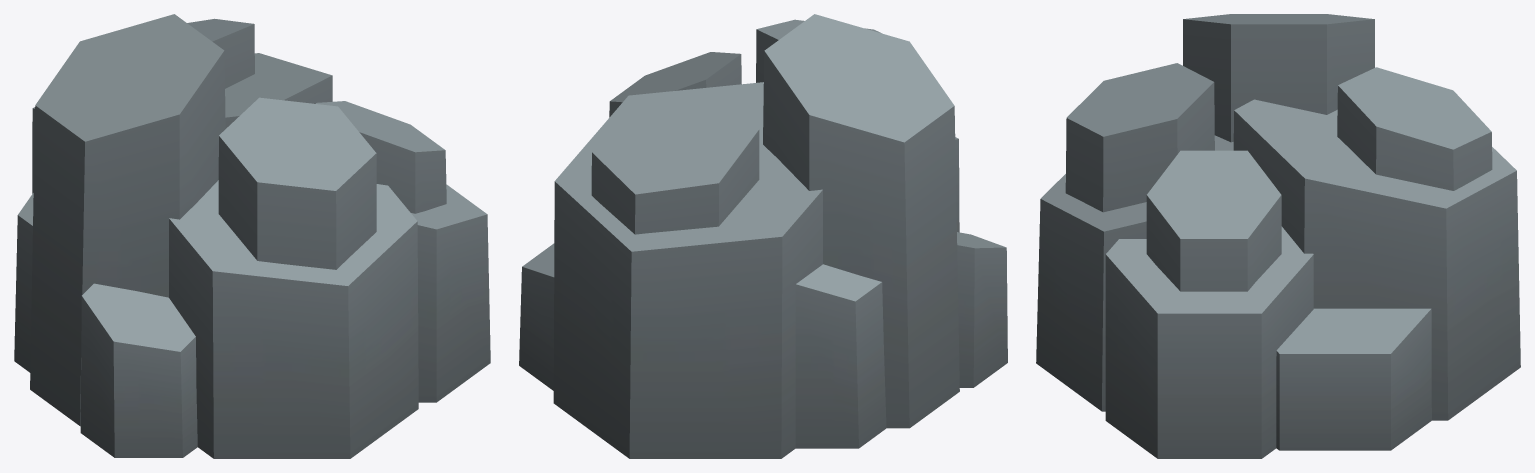
File: kaykit-medieval-hexagon-pack-mountain-c.glb
The picture shows the model from 3 angles, left to right: view 1: azimuth 30°, elevation 25°; view 2: azimuth 150°, elevation 25°; view 3: azimuth 270°, elevation 25°; orthographic projection. The views are drawn at different scales.
Visible parts, largest first — view 1: mountain_C; view 2: mountain_C; view 3: mountain_C.
Part boxes in pixels (x1,y1,x2,y2): mountain_C: (14,14,490,458); mountain_C: (519,14,1007,458); mountain_C: (1036,14,1520,458).
Bounding box in the file's own units: 1.76 × 1.51 × 2.02.
1 material, 1 textured.
